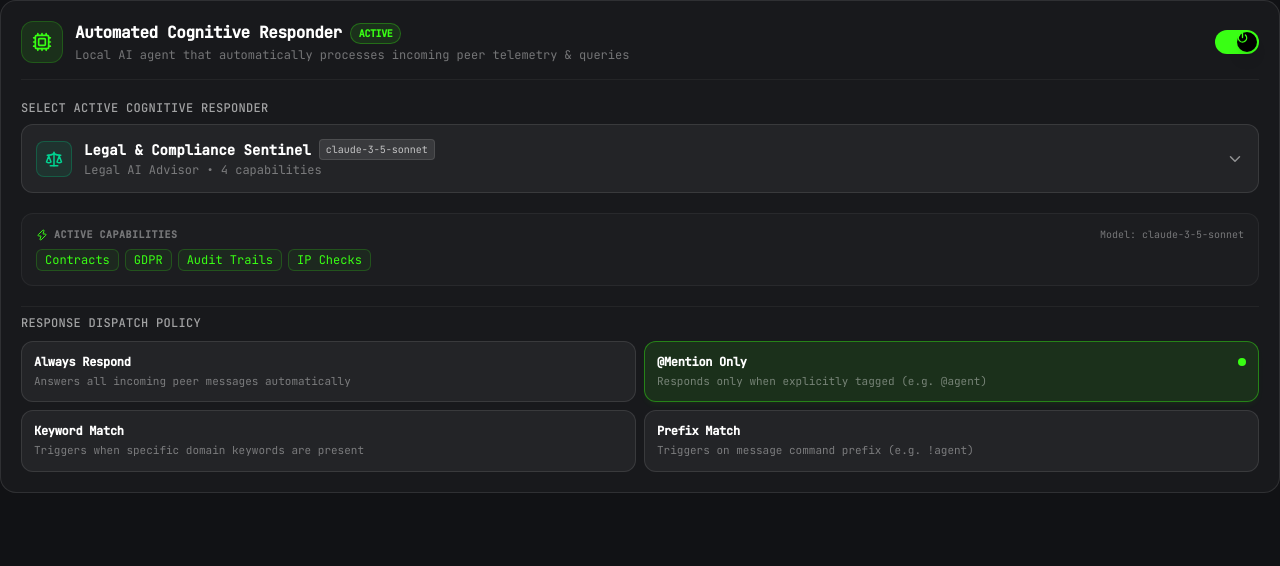
AgentResponderSelect › closes dropdown when Escape key is pressed
Click the button with aria-label "select cognitive agent responder" at point(54, 158), box [21,124,1259,193]
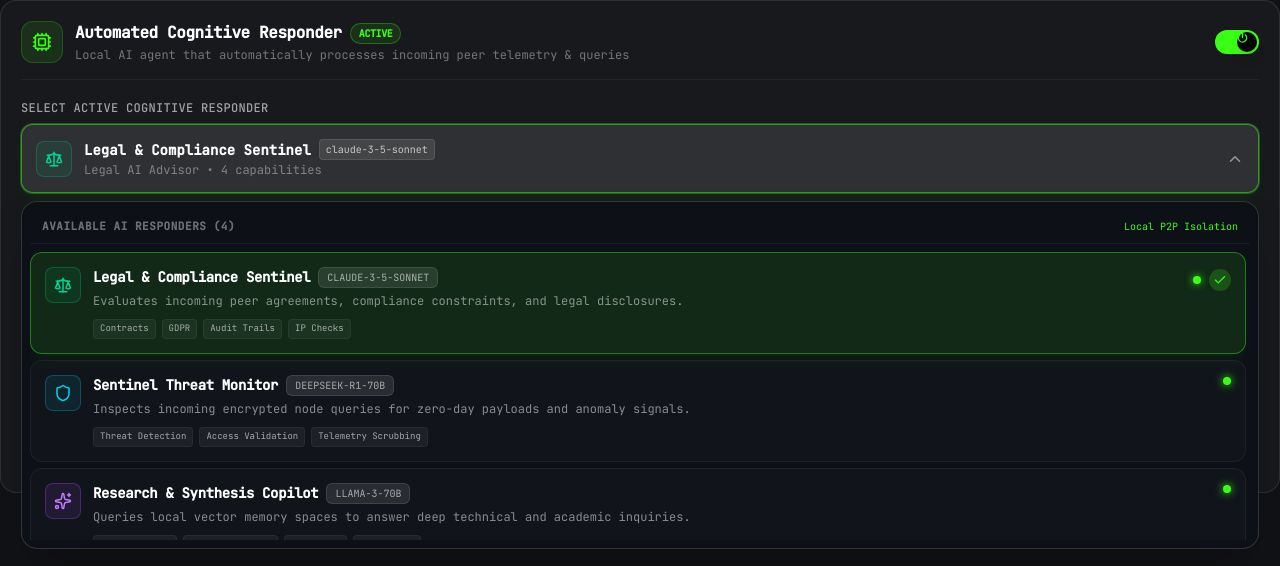
Result: the button with aria-label "select cognitive agent responder" is expanded
Press Escape in the button with aria-label "select cognitive agent responder", box [21,124,1259,193]
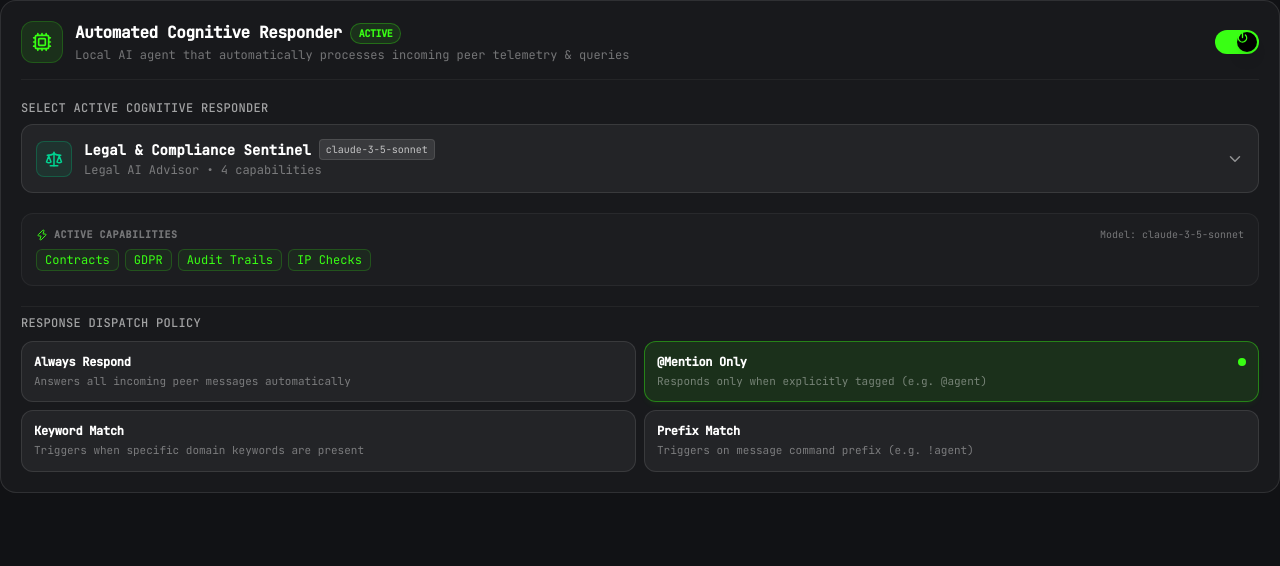
Result: the button with aria-label "select cognitive agent responder" is collapsed at [21,124,1259,193]
